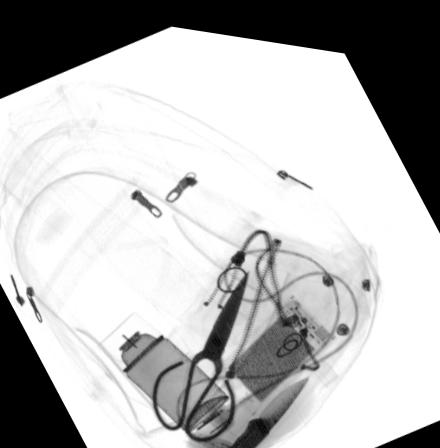Knife: (214, 364, 314, 448)
Powerbank: (222, 283, 336, 395)
Scissors: (152, 257, 253, 436)
Sprayer: (95, 305, 231, 428)
